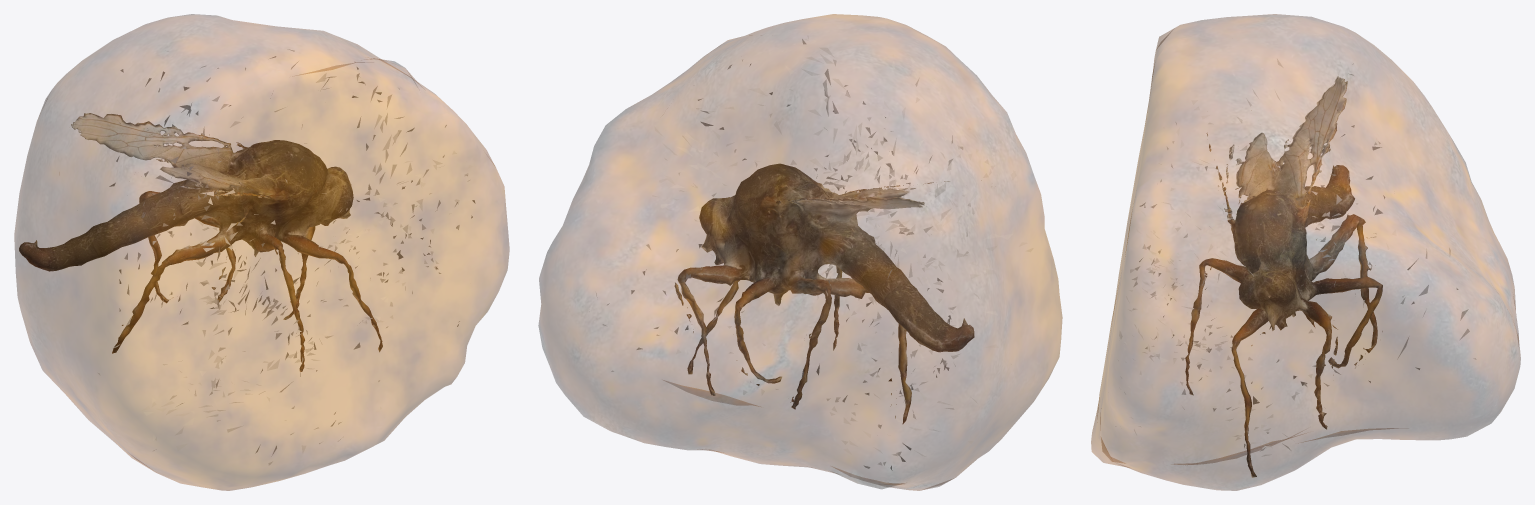
File: khr_MosquitoInAmber.glb
3 views of the same model, side by side, from view 1: azimuth 30°, elevation 25°; view 2: azimuth 150°, elevation 25°; view 3: azimuth 270°, elevation 25° (orthographic). The views are drawn at different scales.
Visible parts, largest first — view 1: 5_amber_lr, 2_mosquito_lr, 6_eclats; view 2: 5_amber_lr, 2_mosquito_lr, 6_eclats; view 3: 5_amber_lr, 2_mosquito_lr, 6_eclats.
Boxes of the visible parts, x1,y1,x2,y2 form: 5_amber_lr: (14, 14, 509, 490); 2_mosquito_lr: (19, 113, 382, 371); 6_eclats: (98, 49, 475, 465); 5_amber_lr: (538, 14, 1062, 490); 2_mosquito_lr: (674, 163, 974, 423); 6_eclats: (596, 35, 1036, 470); 5_amber_lr: (1091, 14, 1520, 490); 2_mosquito_lr: (1185, 76, 1382, 477); 6_eclats: (1109, 59, 1475, 456).
Bounding box in the file's own units: 0.0972 × 0.0997 × 0.0879.
3 materials, 2 textured.
